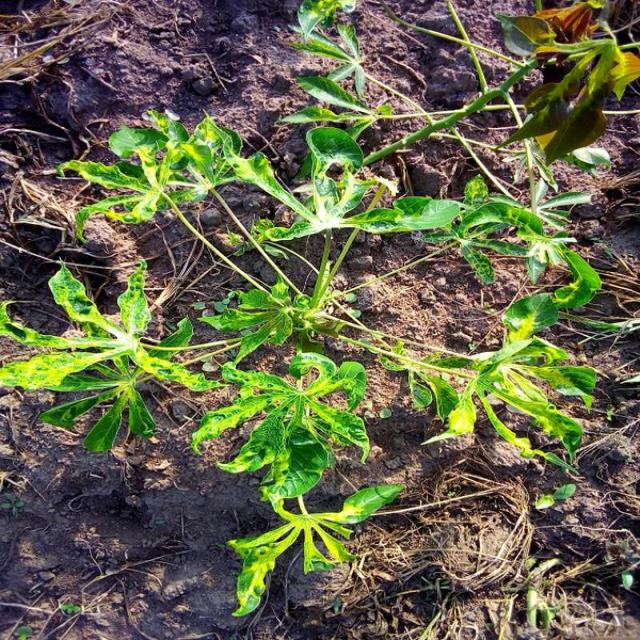cassava leaf: (3, 1, 634, 618)
